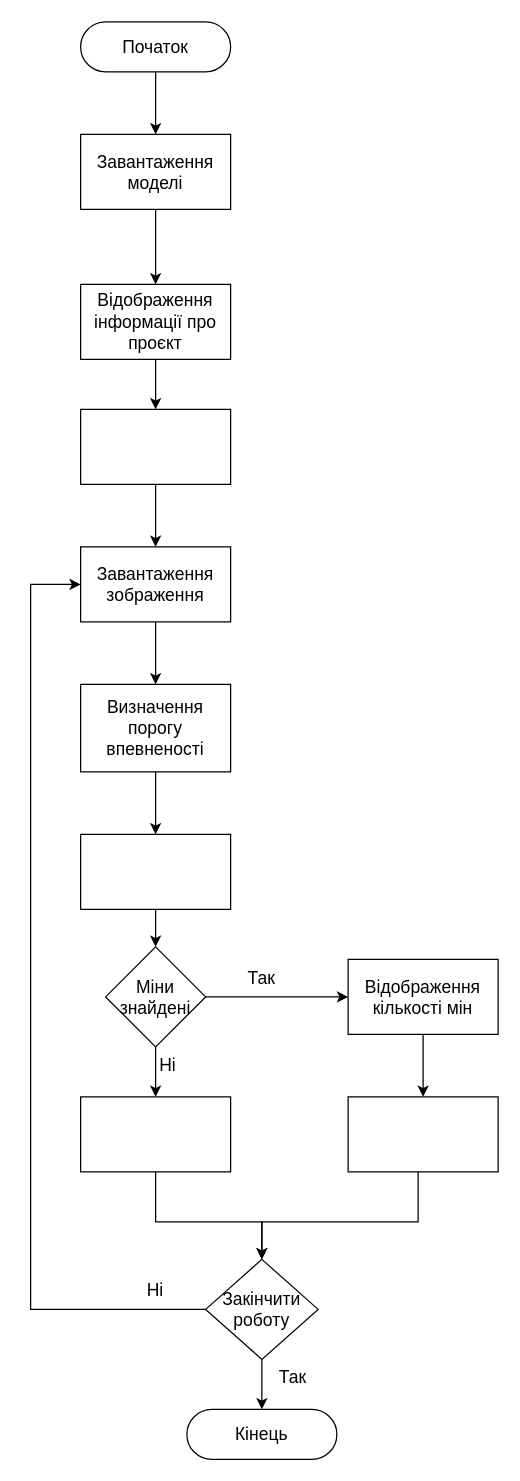
This 520x1481 diagram has some shape labels left out. Each missing label, with the centre of its shape:
Відображення зображення з рамками: point 422,1134
Відображення повідомлення "Мін не знайдено": point 155,1134
Головне вікно програми: point 155,446
Передбачення нейронної мережі: point 155,871
